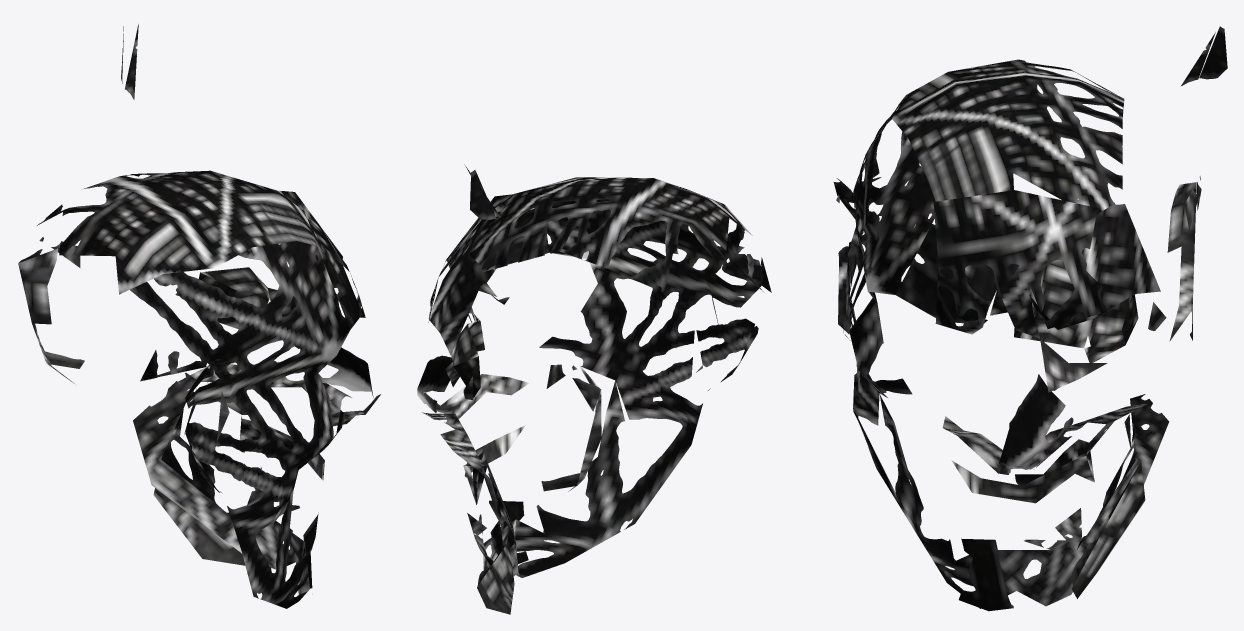
3 renders of one model, left to right at view 1: azimuth 30°, elevation 25°; view 2: azimuth 150°, elevation 25°; view 3: azimuth 270°, elevation 25°, orthographic. The views are drawn at different scales.
Parts seen in each view (by area): view 1: tripo_node_9f37003d-00e4-46ad-b435-aad72360b564.004; view 2: tripo_node_9f37003d-00e4-46ad-b435-aad72360b564.004; view 3: tripo_node_9f37003d-00e4-46ad-b435-aad72360b564.004.
Boxes of the visible parts, left/top/right/bottom form: tripo_node_9f37003d-00e4-46ad-b435-aad72360b564.004: left=18, top=24, right=380, bottom=608; tripo_node_9f37003d-00e4-46ad-b435-aad72360b564.004: left=417, top=164, right=771, bottom=614; tripo_node_9f37003d-00e4-46ad-b435-aad72360b564.004: left=833, top=26, right=1227, bottom=611.
Size of the model in its own units: 65.19 by 100 by 68.04.
